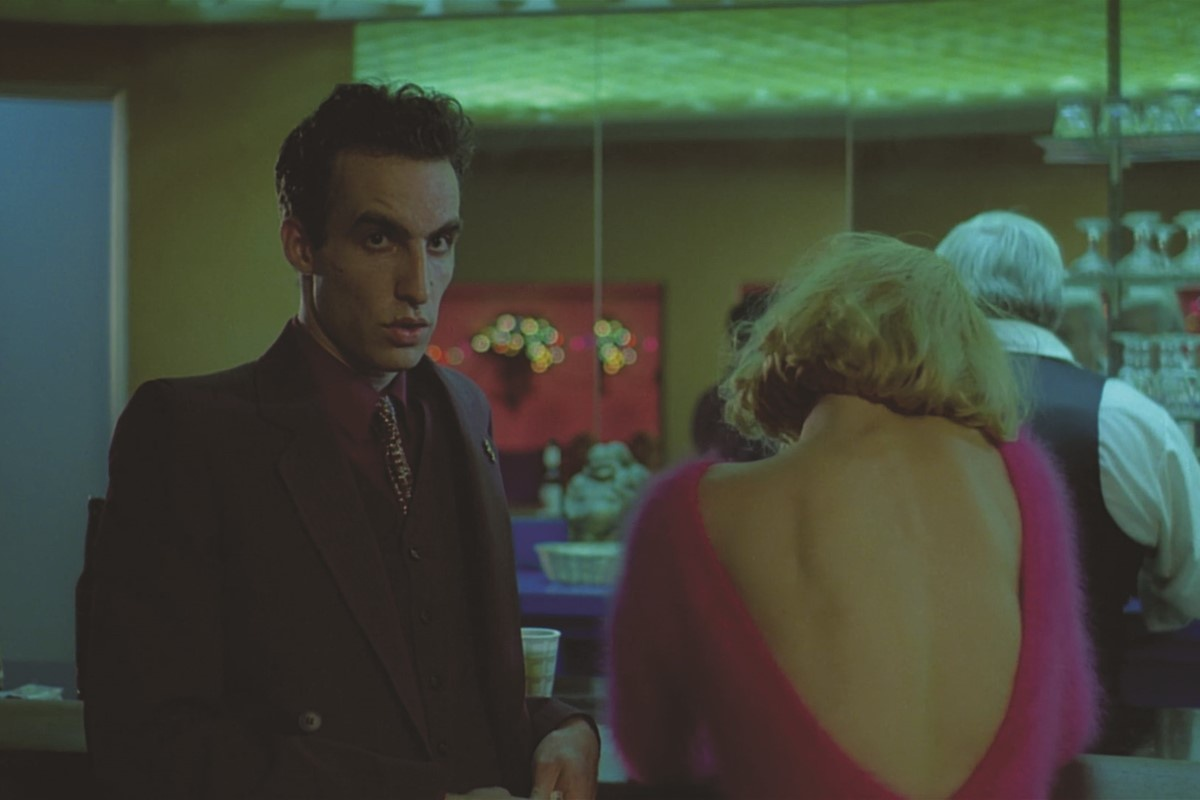bad: (322, 184, 476, 339)
